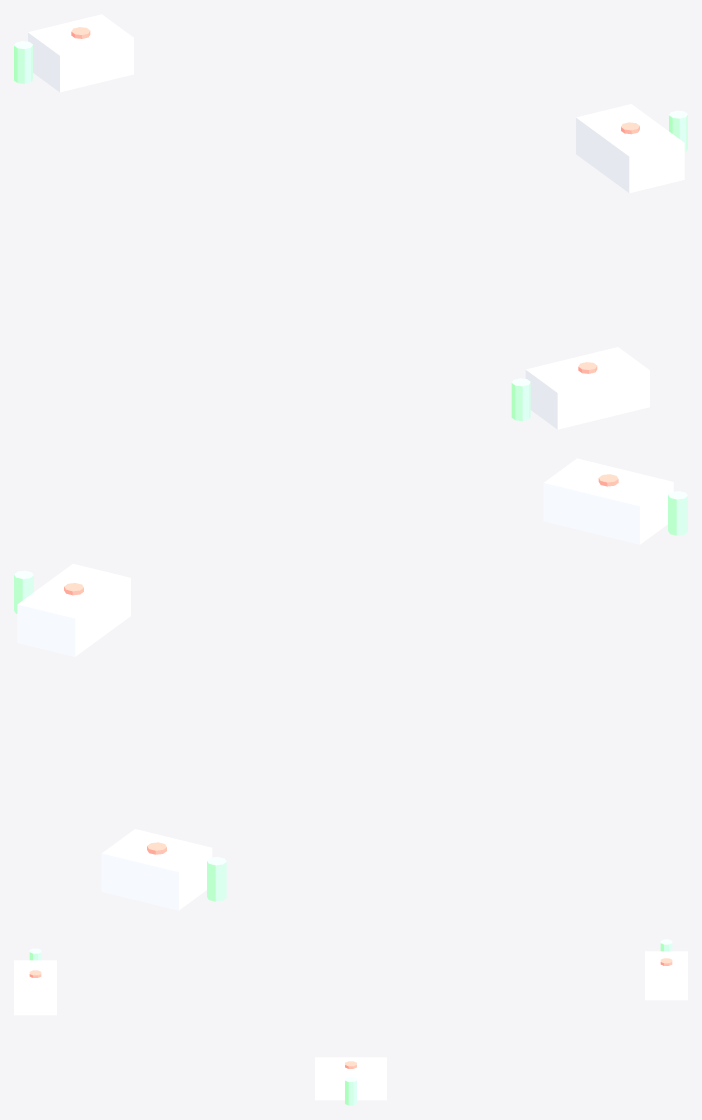
The model's file is wave1_cover_span.glb.
3 renders of one model, top to bottom at view 1: azimuth 30°, elevation 25°; view 2: azimuth 150°, elevation 25°; view 3: azimuth 270°, elevation 25°, orthographic. The views are drawn at different scales.
Visible parts, largest first — view 1: wave1_cover_span; view 2: wave1_cover_span; view 3: wave1_cover_span.
Part boxes in pixels (x1,y1,x2,y2): wave1_cover_span: (14,14,687,429); wave1_cover_span: (14,458,687,910); wave1_cover_span: (14,939,687,1105).
Size of the model in its own units: 23.53 by 2.1 by 47.
